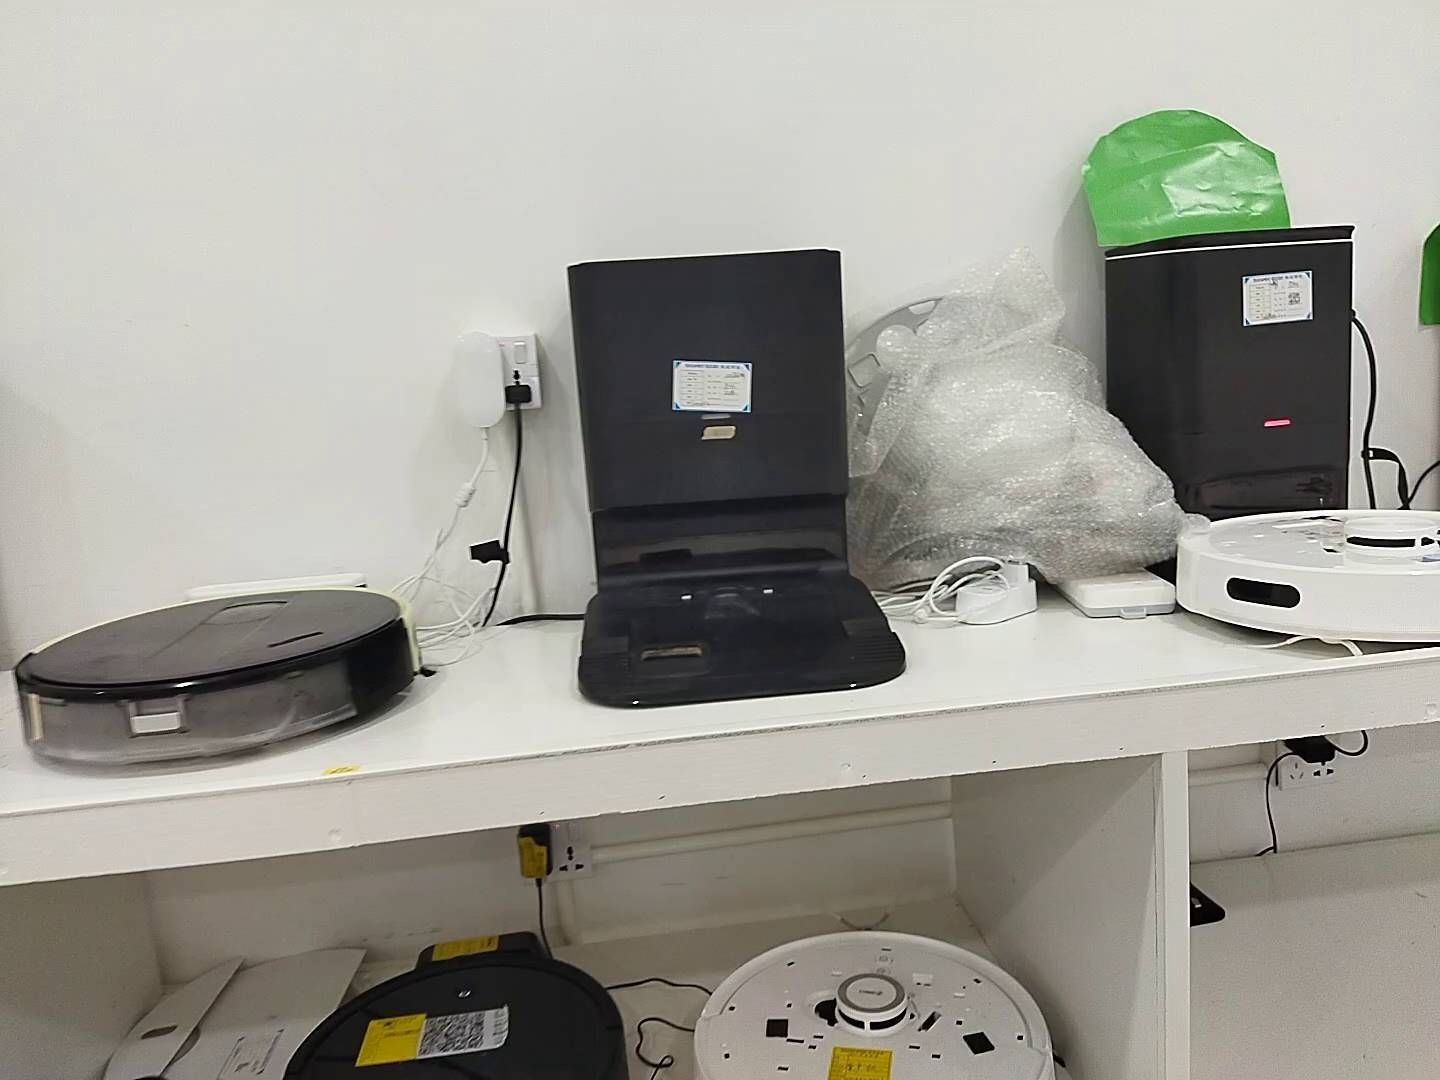dust collecting barrel: (567, 248, 906, 710), (1104, 223, 1353, 518)
